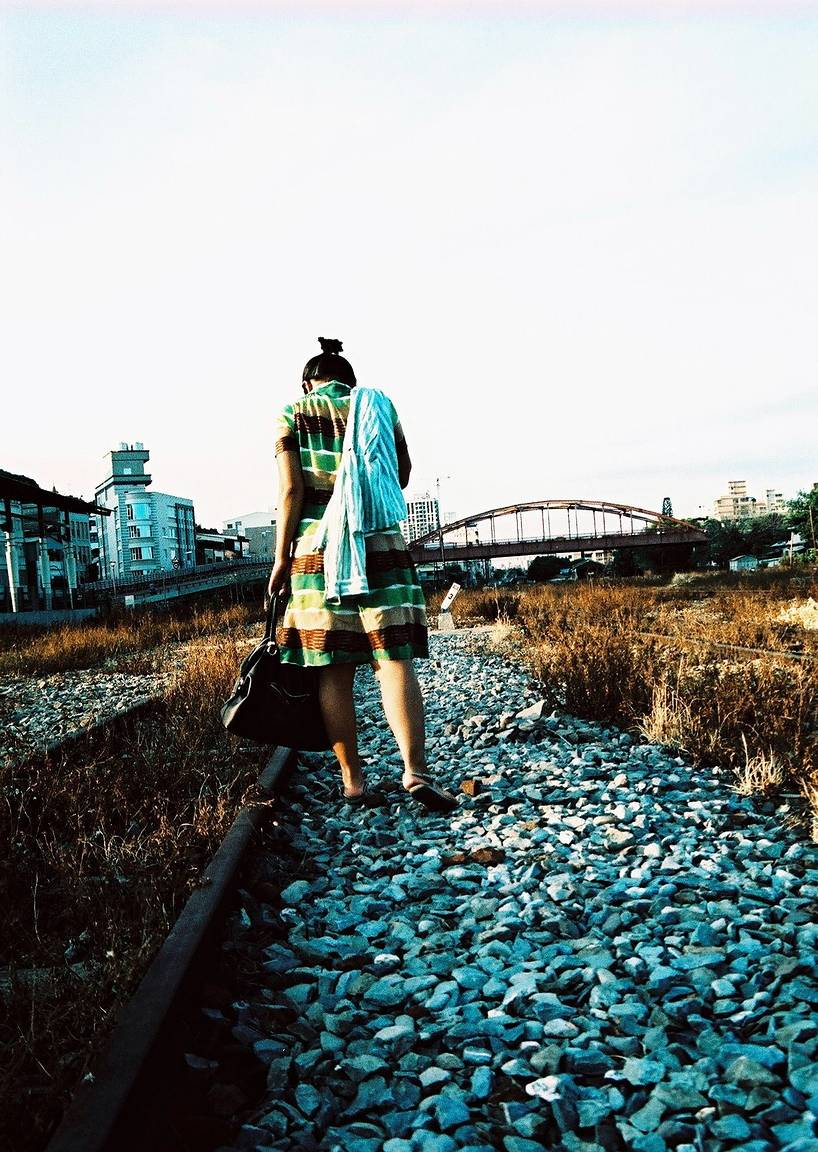Humano: (267, 330, 464, 814)
